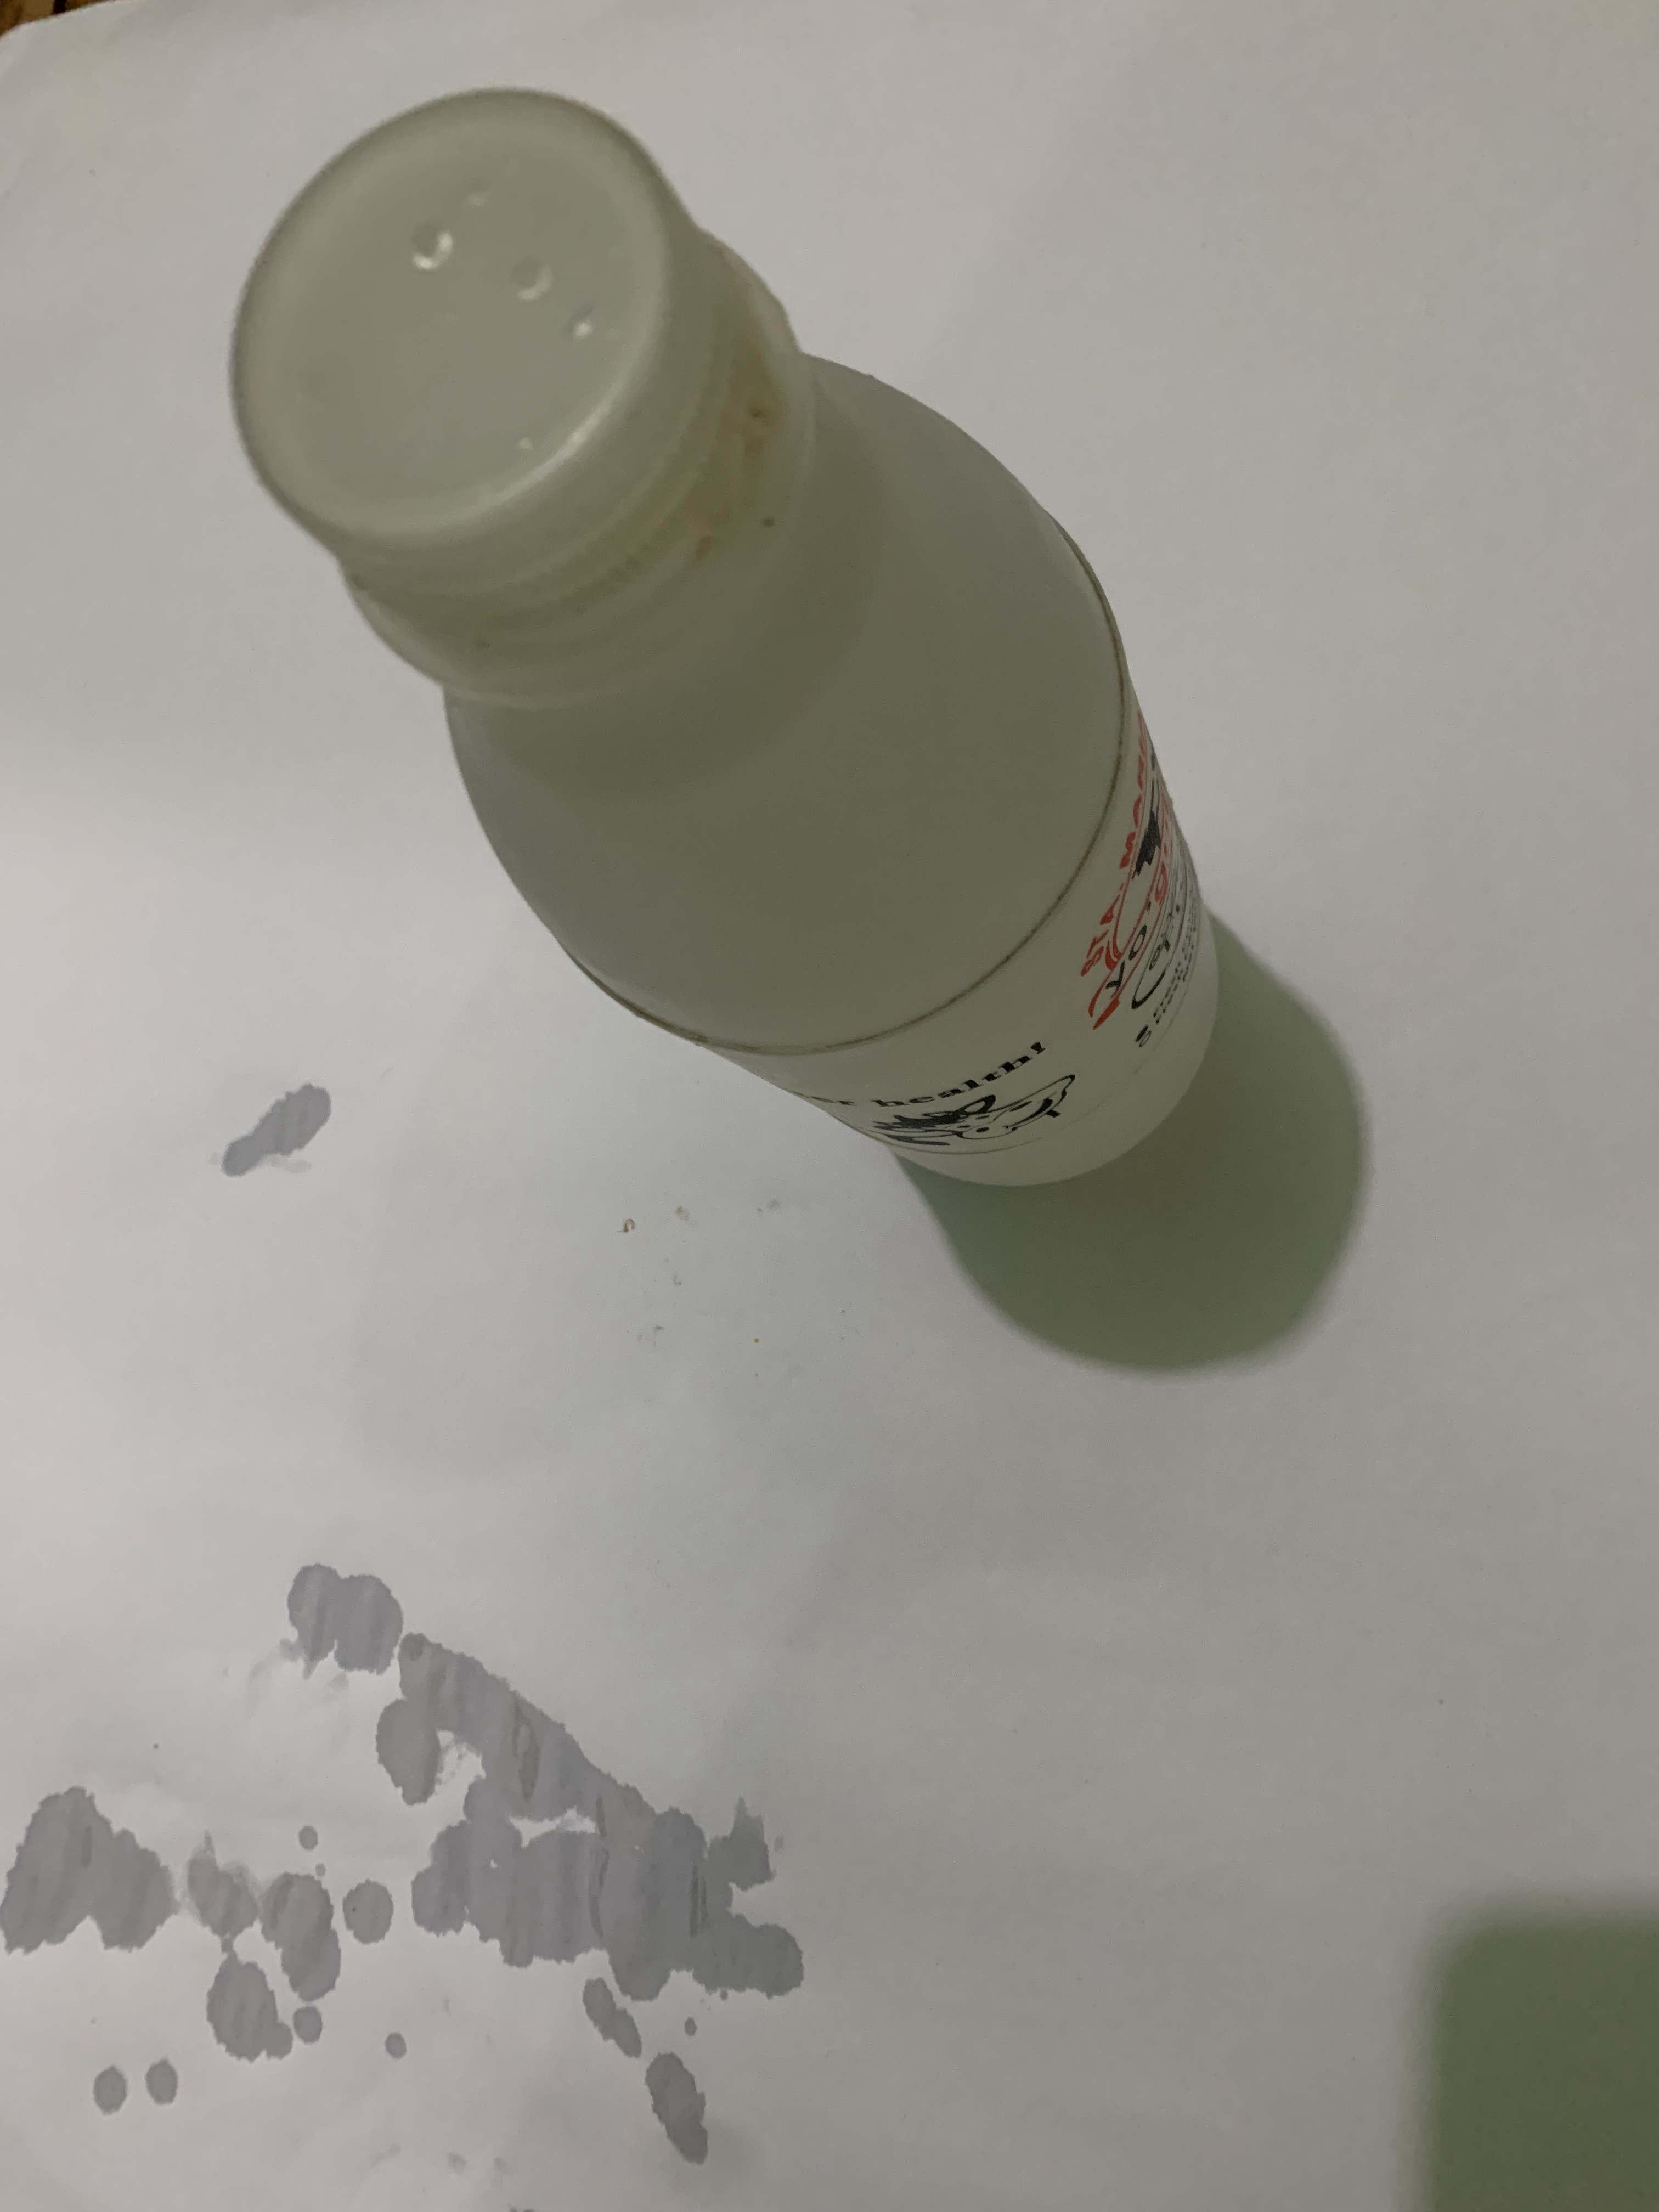bottle: (228, 636, 1225, 653)
